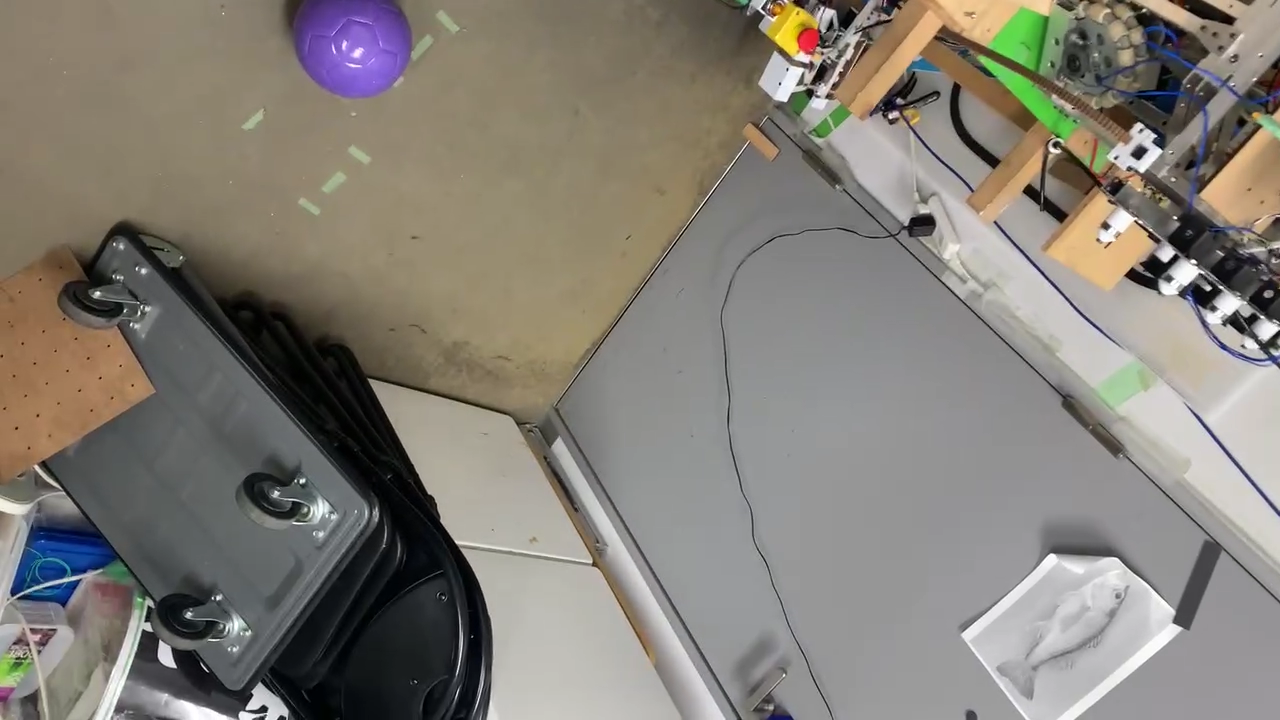purple: (293, 0, 409, 96)
